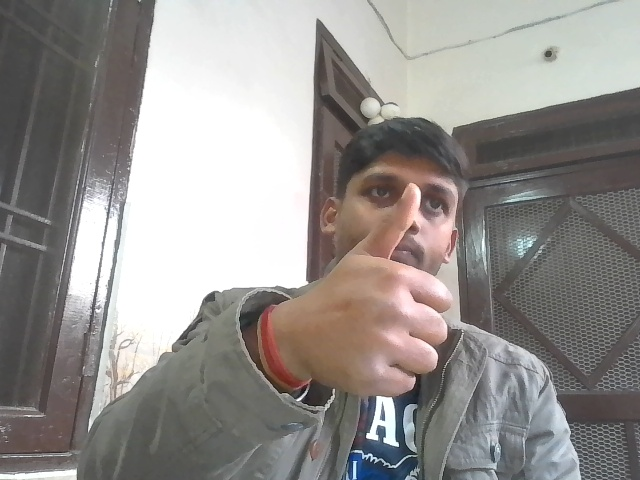BestOfLuck: (315, 183, 455, 395)
